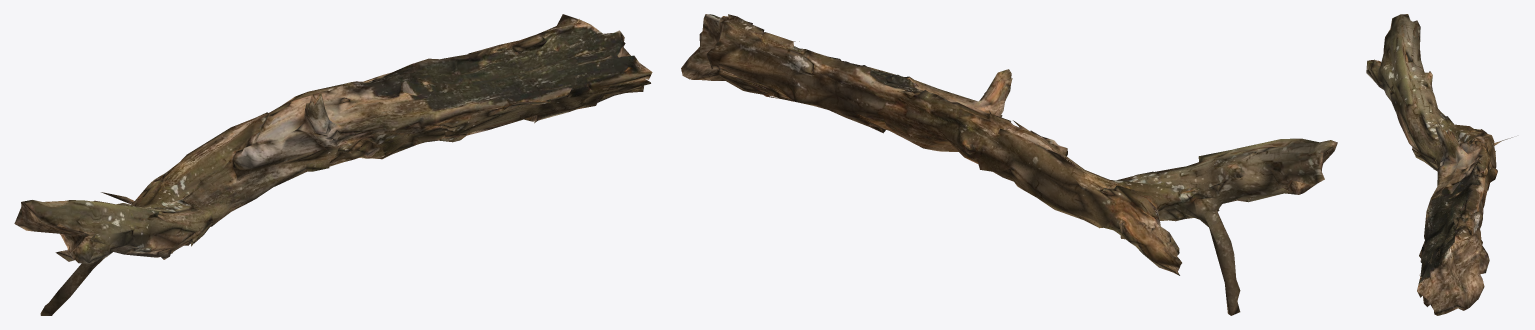
File: ob_log.glb
The picture shows the model from 3 angles, left to right: view 1: azimuth 30°, elevation 25°; view 2: azimuth 150°, elevation 25°; view 3: azimuth 270°, elevation 25°; orthographic projection. The views are drawn at different scales.
Parts seen in each view (by area): view 1: dead_tree_trunk_02; view 2: dead_tree_trunk_02; view 3: dead_tree_trunk_02.
Boxes of the visible parts, bbox=[...] form: dead_tree_trunk_02: bbox=[14, 14, 652, 315]; dead_tree_trunk_02: bbox=[681, 14, 1337, 315]; dead_tree_trunk_02: bbox=[1366, 14, 1512, 315].
Size of the model in its own units: 4.05 by 1.05 by 1.04.
Materials: 1 (1 with a texture image).
